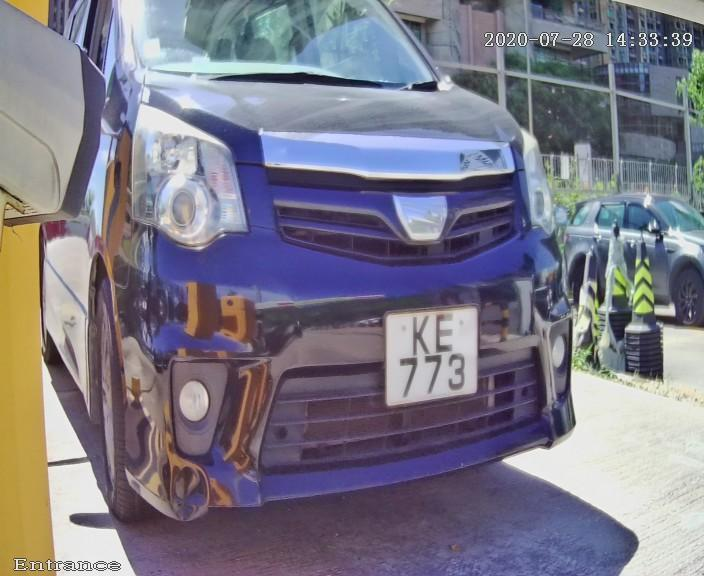privatecar: (23, 6, 657, 571)
